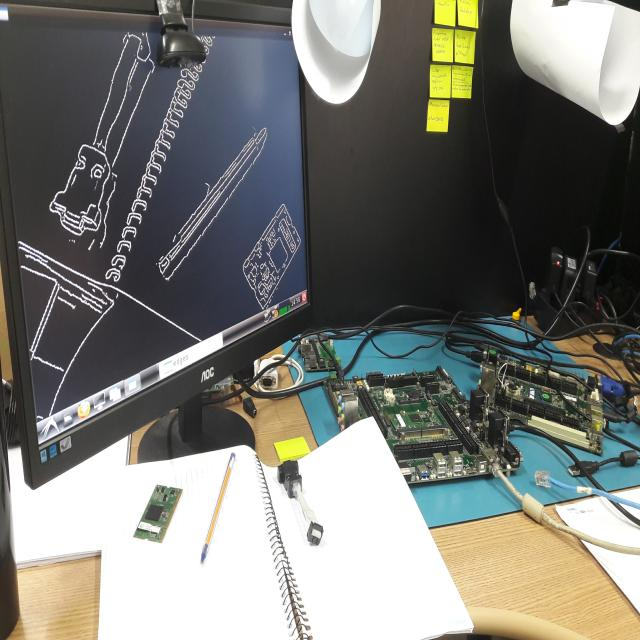som: (134, 478, 183, 554), (386, 402, 448, 442)
